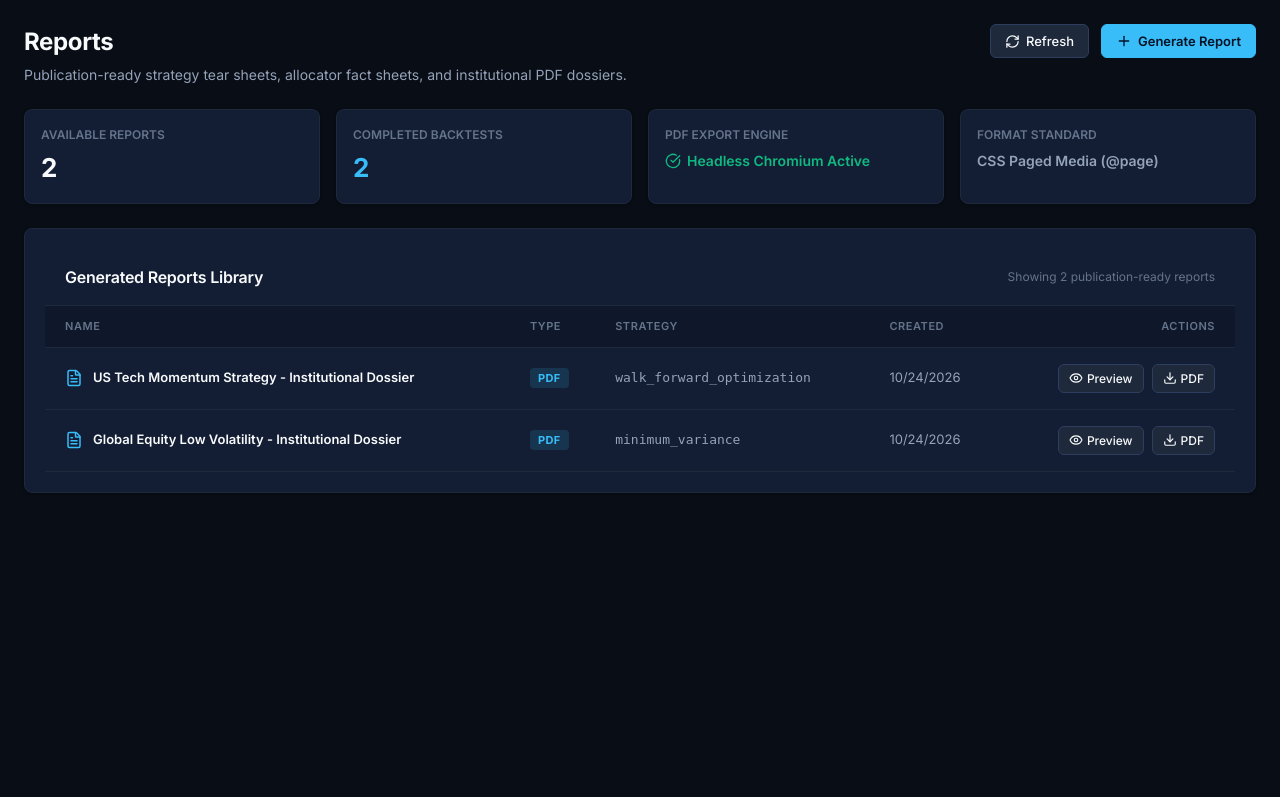
Test: ReportsPage (Mockup 11: Reports Library & Mockup 12: PDF Report Preview) › navigates to Report Preview (Mockup 12) when Preview button is clicked
The width and height of the screenshot is (1280, 797).
Check: the text "US Tech Momentum Strategy - Institutional Dossier" is shown, box [93,368,414,388]
Click the button "Preview" in the row of "walk_forward_optimization" at point(1101, 378), box [1058,364,1144,392]
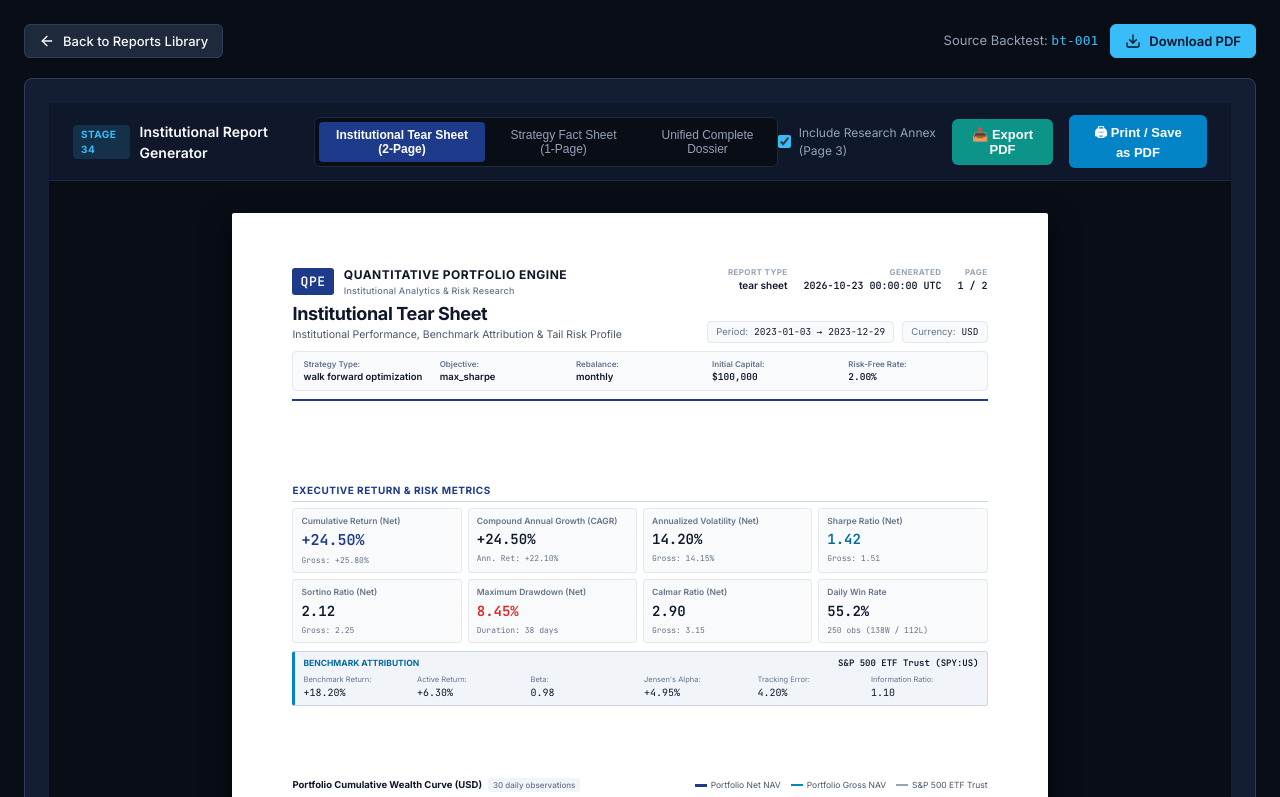
Check: the button "Back to Reports Library" is shown
Check: the button "Download PDF" is shown, box [1110,24,1256,58]
# Clicking back returns to library list
Click the button "Back to Reports Library" at point(124, 41), box [24,24,223,58]
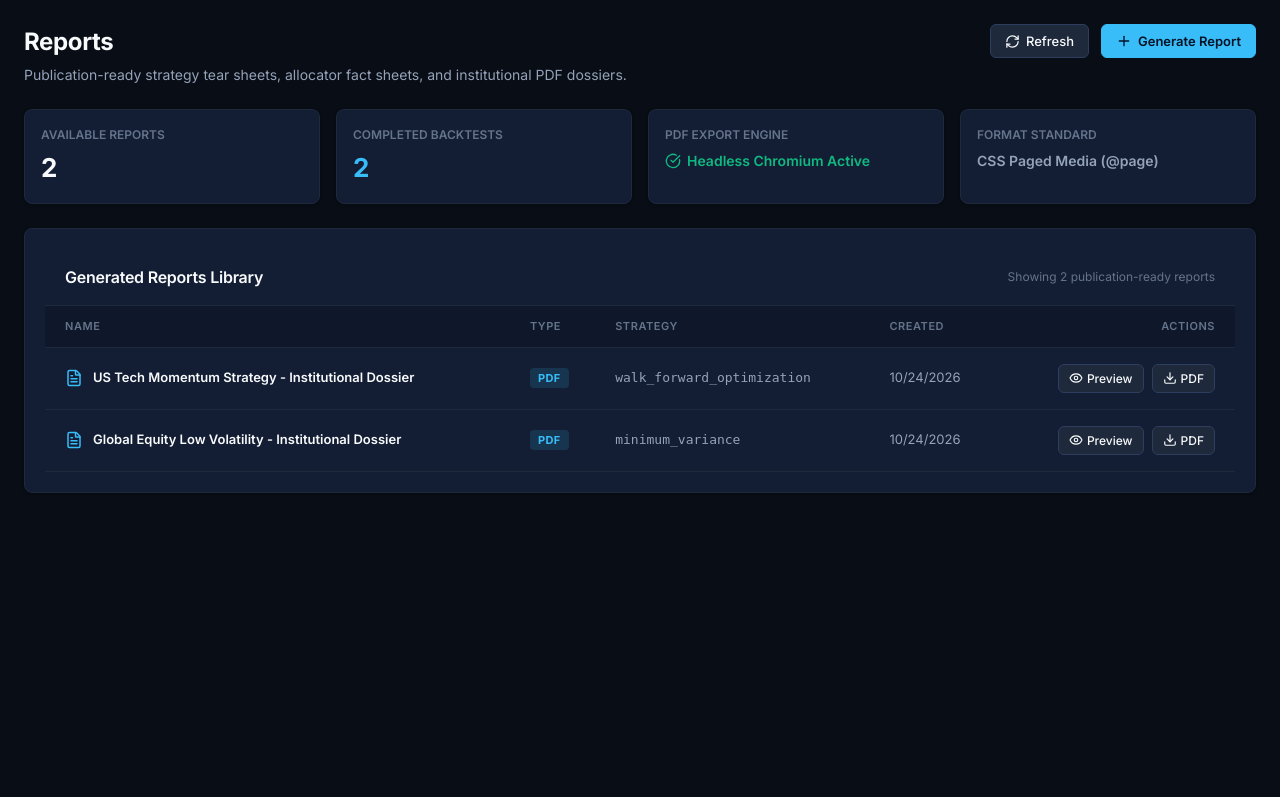
Check: the heading "Generated Reports Library" is shown, box [65,265,263,289]
